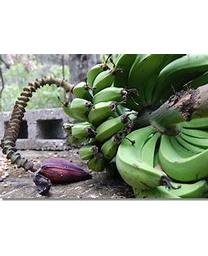banana: (63, 54, 207, 196)
